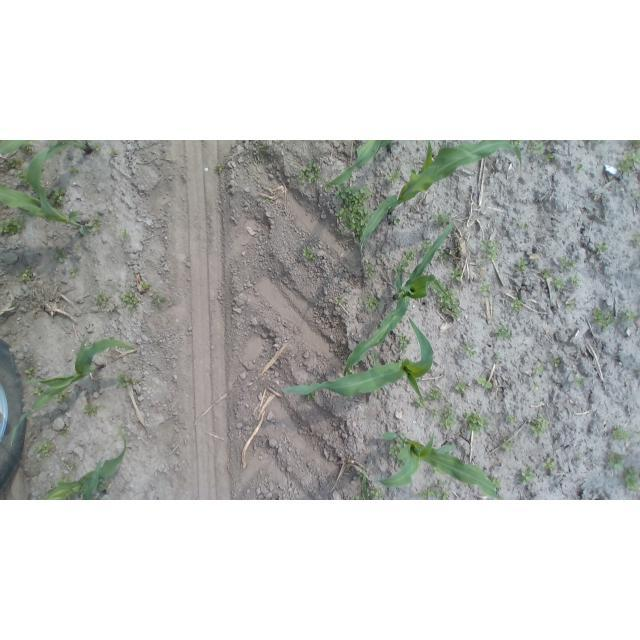Maize: (358, 140, 523, 258), (345, 215, 456, 382), (11, 335, 137, 446), (280, 315, 436, 403), (376, 430, 504, 499), (0, 146, 92, 236), (42, 425, 126, 500), (324, 140, 397, 188), (1, 140, 94, 164), (353, 465, 370, 500), (1, 141, 36, 154)
Weeds: (335, 185, 370, 239), (434, 281, 460, 319), (418, 480, 450, 500), (299, 160, 322, 185), (618, 149, 640, 175), (465, 411, 490, 433), (592, 307, 616, 329), (439, 404, 457, 431), (399, 248, 417, 274), (120, 291, 141, 313), (530, 414, 550, 437), (0, 216, 24, 235), (622, 468, 640, 493), (480, 239, 501, 260), (47, 186, 65, 206), (37, 440, 55, 458), (116, 373, 139, 387), (493, 324, 513, 340), (608, 452, 625, 470), (621, 309, 638, 327), (613, 425, 631, 442), (5, 156, 24, 172), (519, 466, 535, 485), (94, 290, 110, 309), (502, 435, 517, 453), (55, 247, 70, 265), (560, 256, 577, 271), (89, 213, 102, 232), (398, 334, 410, 354), (151, 292, 166, 308), (528, 141, 544, 156), (433, 211, 449, 225), (302, 246, 316, 262), (463, 344, 477, 359), (365, 295, 380, 309), (369, 351, 381, 368), (420, 238, 432, 255), (552, 277, 566, 291), (371, 485, 385, 499), (542, 457, 556, 471), (82, 404, 98, 416), (476, 376, 492, 388), (427, 389, 441, 402), (56, 390, 69, 404), (413, 396, 427, 409), (389, 171, 401, 186), (511, 297, 523, 312), (596, 242, 609, 255), (568, 275, 581, 288), (514, 260, 528, 272), (18, 143, 34, 153), (505, 413, 518, 425), (437, 251, 449, 264), (455, 380, 468, 392), (389, 445, 401, 458), (23, 267, 33, 282), (57, 424, 69, 436), (572, 376, 584, 388), (478, 282, 491, 293), (121, 228, 132, 241), (365, 263, 375, 277), (565, 300, 576, 312), (25, 366, 36, 378), (451, 269, 463, 280), (630, 235, 640, 248), (491, 475, 501, 488), (534, 364, 544, 377), (19, 170, 28, 184), (69, 165, 81, 175), (391, 215, 401, 226), (335, 296, 346, 306), (70, 267, 81, 277), (540, 270, 552, 279), (140, 282, 152, 291), (109, 147, 119, 157), (92, 143, 101, 154), (214, 163, 223, 173), (545, 154, 555, 163), (36, 387, 45, 397), (494, 353, 503, 362), (430, 409, 438, 419), (323, 181, 331, 191), (553, 357, 561, 367), (518, 223, 529, 230), (533, 382, 541, 391), (508, 140, 526, 144), (308, 392, 317, 400), (630, 141, 640, 148), (397, 459, 405, 467), (576, 163, 584, 171), (266, 196, 274, 204), (433, 467, 443, 473), (577, 453, 584, 461), (259, 144, 266, 152), (357, 471, 363, 479), (354, 496, 363, 501), (349, 368, 355, 375), (70, 463, 77, 469), (394, 267, 399, 275), (35, 471, 41, 477), (456, 246, 463, 251), (75, 244, 81, 249), (68, 477, 72, 484), (59, 478, 64, 483), (637, 193, 640, 201), (114, 304, 118, 310), (376, 389, 381, 393), (29, 186, 33, 191), (598, 140, 607, 142), (638, 367, 640, 373), (276, 140, 281, 142)
